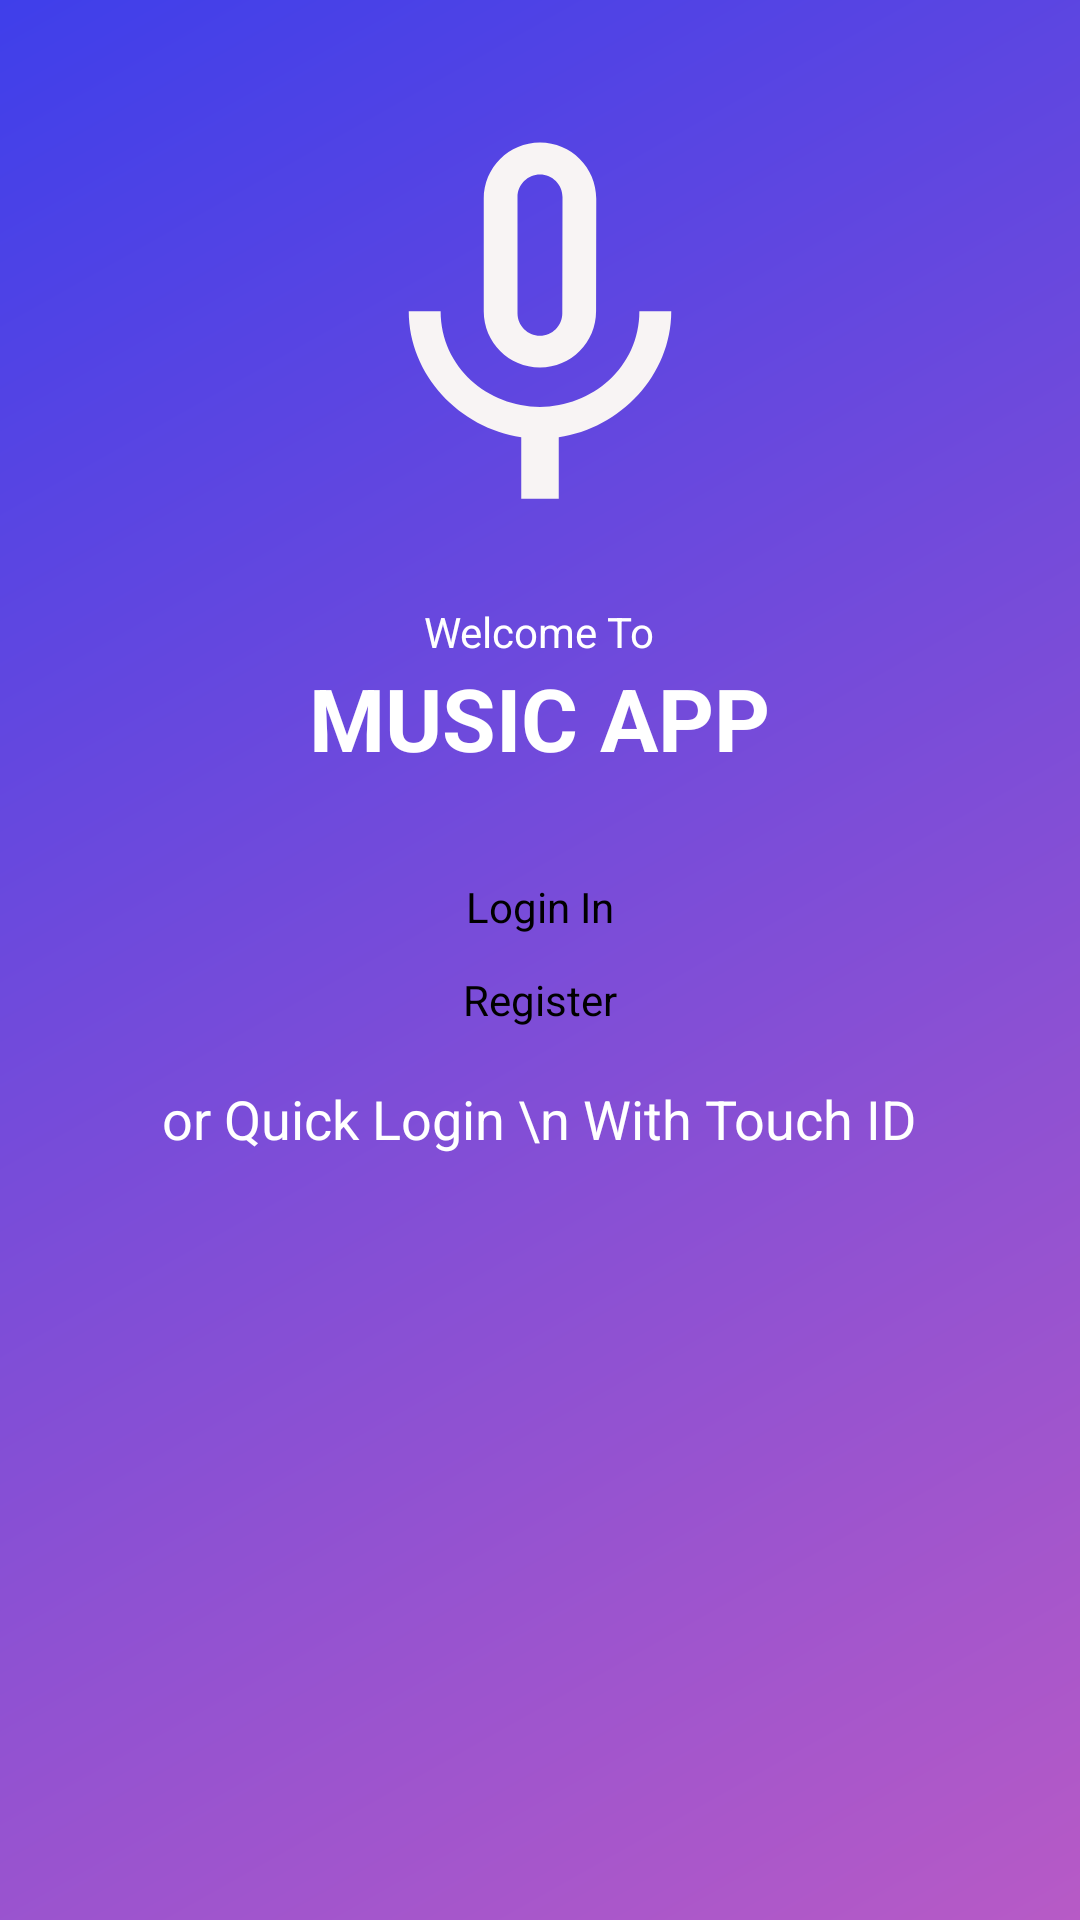

Icons on this 1080 × 1920 Android screen, each with its box as (x1, y1, x2, y2):
mic none: (408, 142, 672, 499)
